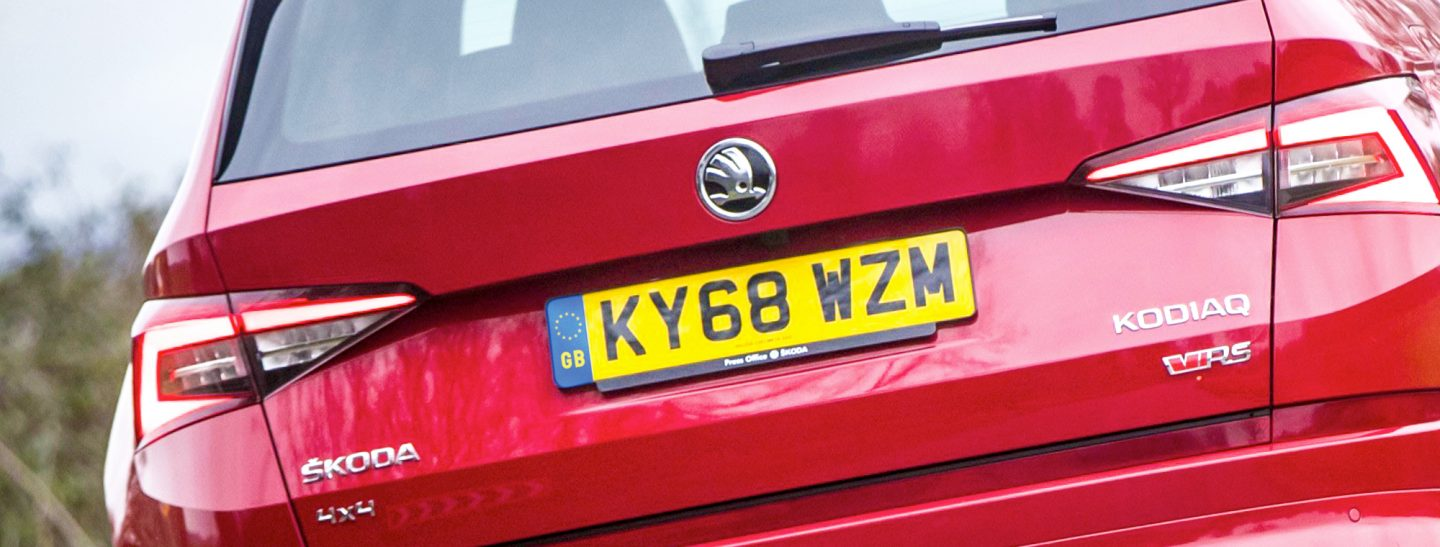number_plate: (544, 231, 978, 364)
